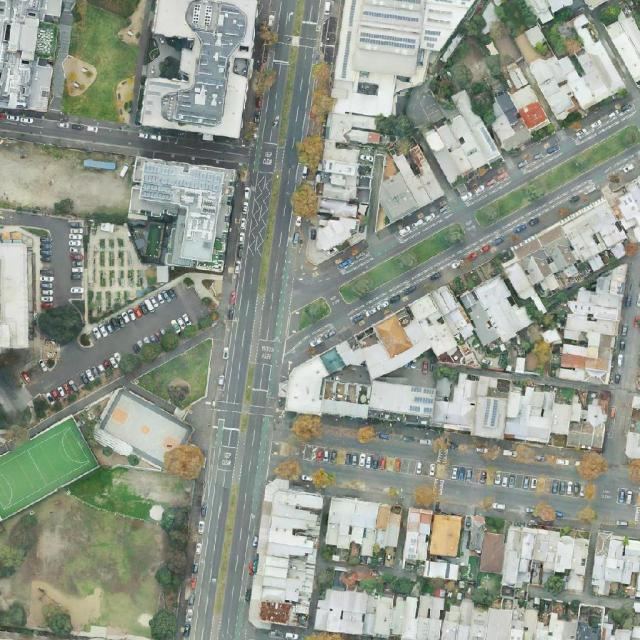building: (283, 134, 640, 455), (302, 0, 471, 279), (122, 157, 237, 274), (397, 67, 504, 189), (517, 12, 628, 126), (247, 477, 326, 634), (470, 60, 554, 156), (400, 507, 491, 584), (499, 524, 594, 597), (323, 495, 405, 568), (590, 530, 640, 598), (602, 8, 640, 86), (478, 532, 509, 576), (525, 0, 574, 24), (473, 2, 504, 36), (584, 0, 608, 10)
greenland: (472, 122, 640, 229), (337, 221, 469, 307), (60, 1, 144, 123), (66, 455, 163, 534), (292, 60, 341, 181), (153, 504, 192, 600), (34, 301, 86, 350), (159, 438, 208, 482), (542, 5, 580, 59), (492, 0, 540, 40), (571, 447, 612, 488), (291, 295, 333, 331), (357, 572, 415, 596), (426, 58, 457, 102), (469, 80, 497, 127), (44, 606, 79, 640), (272, 454, 306, 487), (293, 181, 319, 217), (467, 583, 498, 613), (455, 10, 488, 38), (291, 415, 323, 442), (541, 570, 570, 599), (308, 464, 338, 492), (596, 1, 625, 28), (608, 607, 640, 629), (412, 483, 437, 508), (389, 575, 416, 598), (532, 502, 558, 525), (459, 555, 480, 583), (451, 64, 472, 91), (484, 53, 504, 81), (374, 113, 396, 136)
metalled_road: (276, 132, 640, 369), (18, 278, 209, 406), (0, 113, 251, 171), (25, 375, 129, 438), (285, 249, 345, 306), (281, 321, 339, 362), (603, 388, 634, 464), (307, 240, 372, 276), (155, 332, 215, 365), (131, 358, 157, 378), (615, 394, 635, 411), (202, 326, 214, 339)
